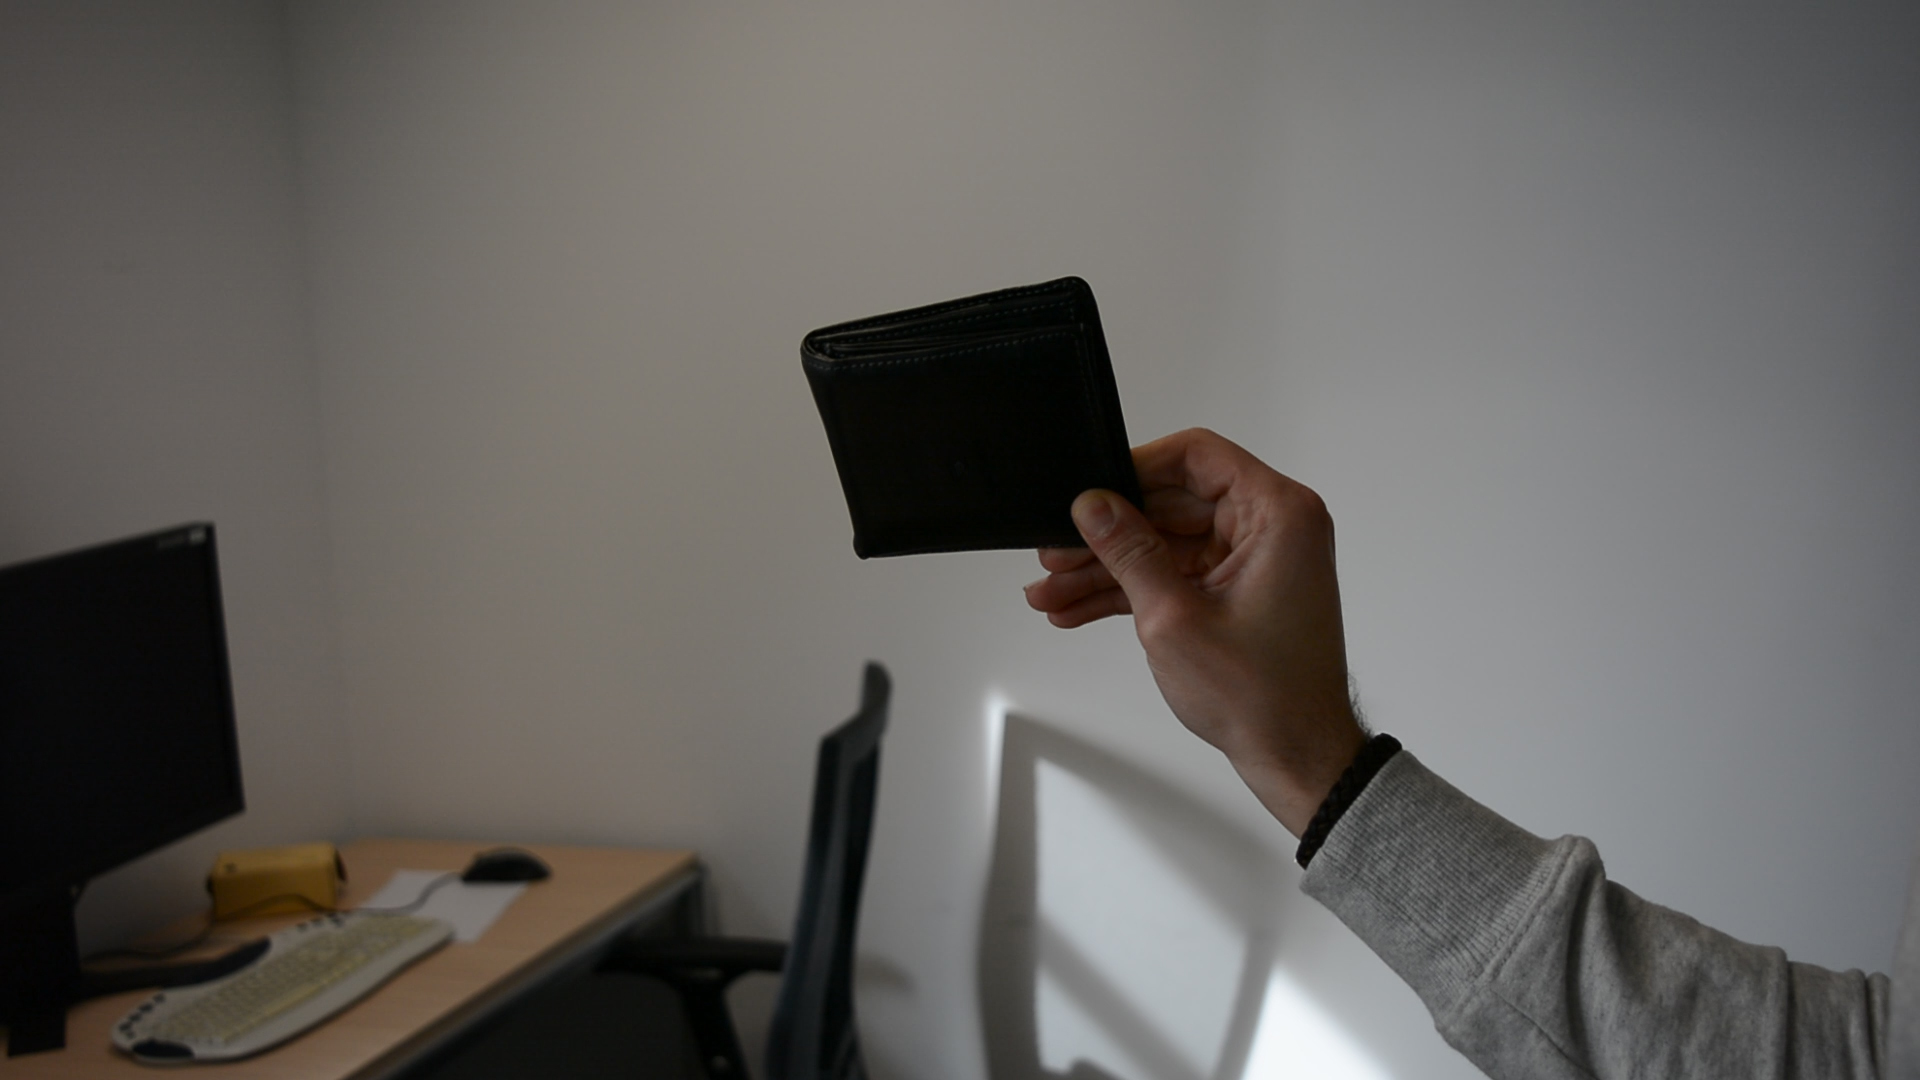monedero: (798, 274, 1150, 562)
